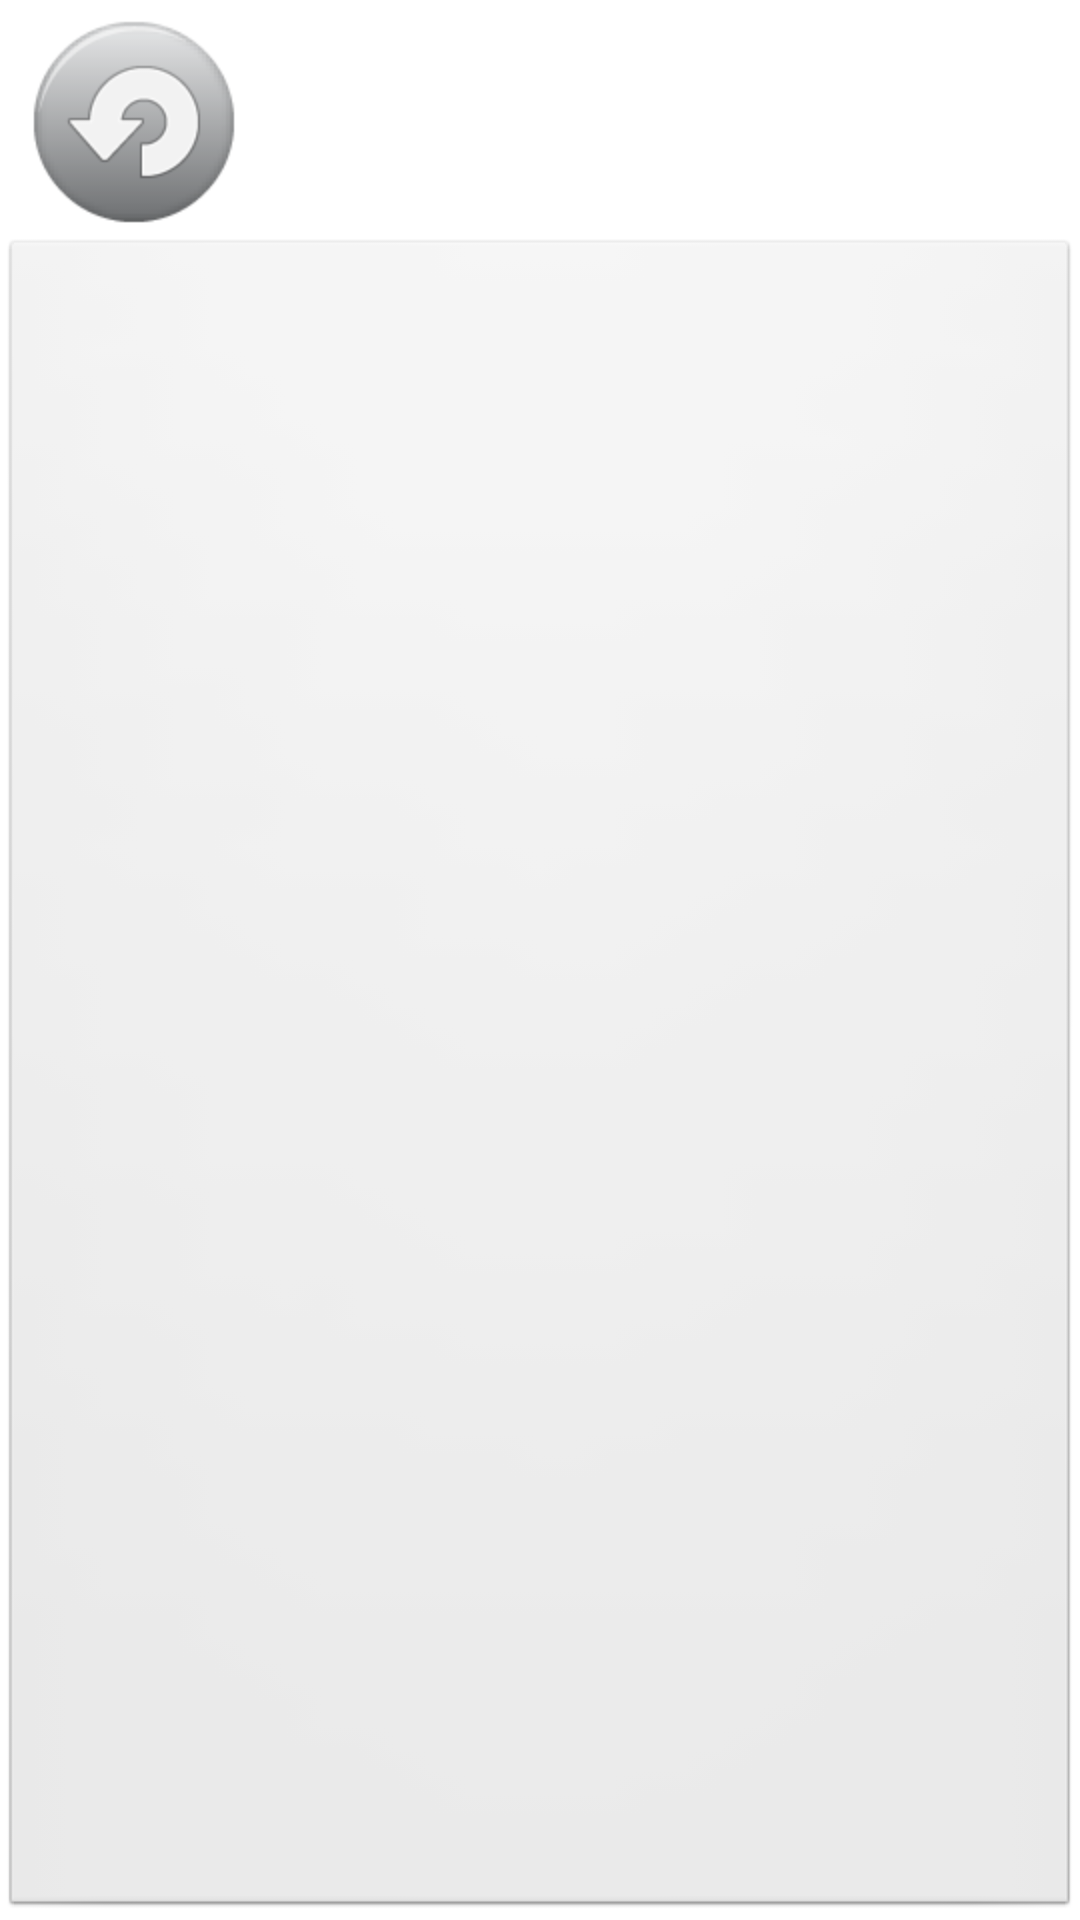

Icons on this 1080w x 1920h Android screen, each with its box as (x1, y1, x2, y2):
back: (33, 22, 235, 223)
